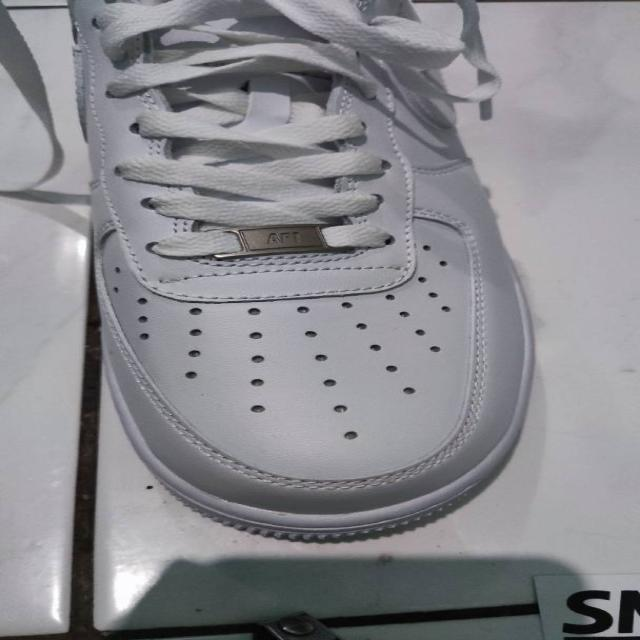nike fake air force: (71, 0, 542, 542)
